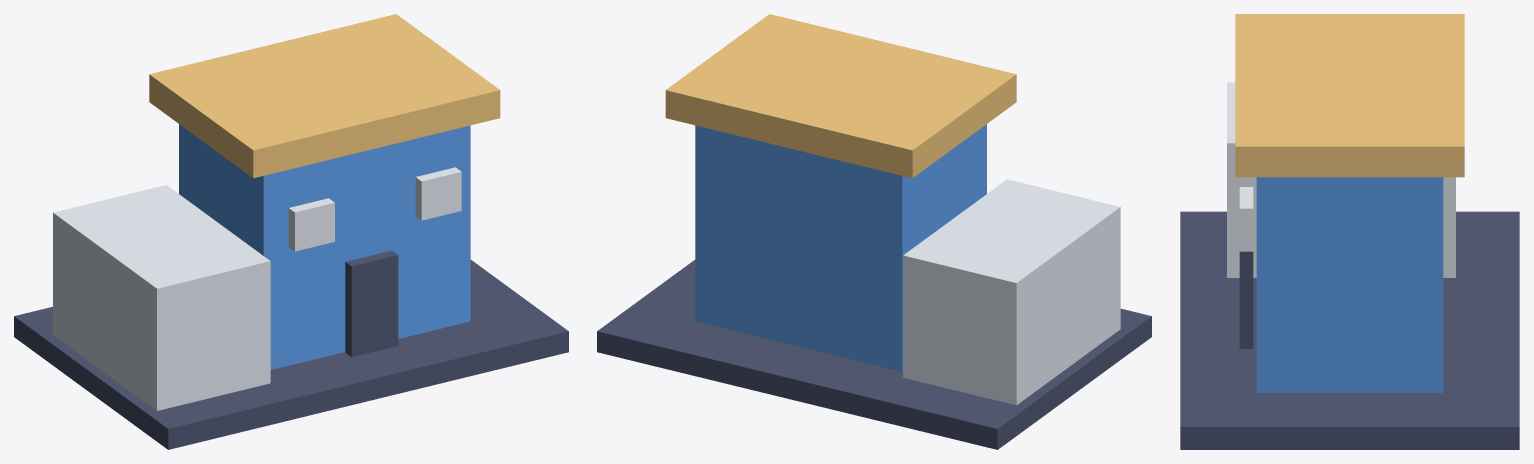
The model's file is demo-building.glb.
3 views of the same model, side by side, from view 1: azimuth 30°, elevation 25°; view 2: azimuth 150°, elevation 25°; view 3: azimuth 270°, elevation 25° (orthographic). The views are drawn at different scales.
Visible parts, largest first — view 1: demo-building; view 2: demo-building; view 3: demo-building.
Part boxes in pixels (x1=…): demo-building: x1=14, y1=14, x2=568, y2=449; demo-building: x1=597, y1=14, x2=1151, y2=449; demo-building: x1=1180, y1=14, x2=1519, y2=449.
Bounding box in the file's own units: 3 × 1.82 × 2.
